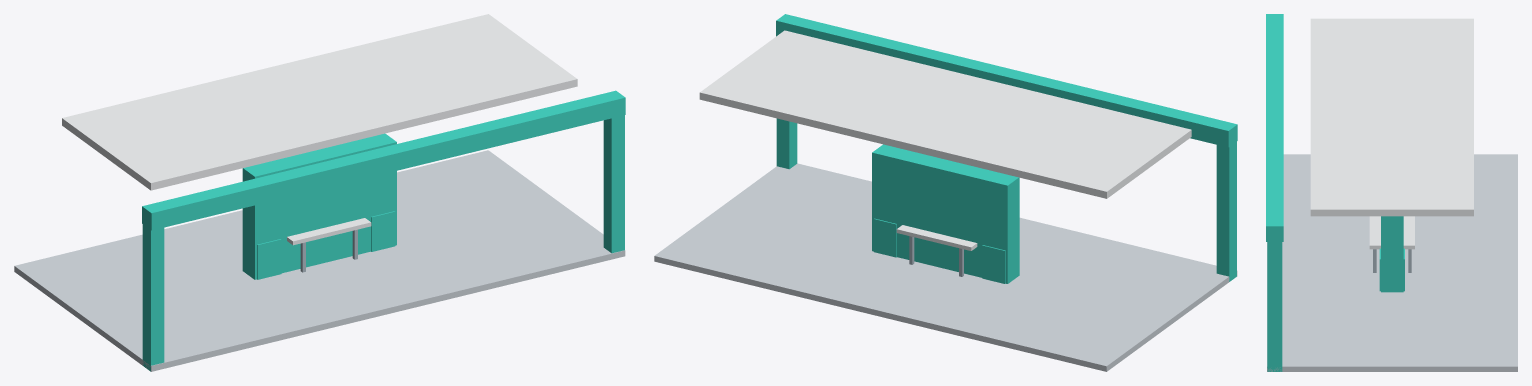
The picture shows the model from 3 angles, left to right: view 1: azimuth 30°, elevation 25°; view 2: azimuth 150°, elevation 25°; view 3: azimuth 270°, elevation 25°; orthographic projection. The views are drawn at different scales.
Parts seen in each view (by area): view 1: Exhibition Booth Concept; view 2: Exhibition Booth Concept; view 3: Exhibition Booth Concept.
Boxes of the visible parts, box(x1,y1,x2,y2) form: Exhibition Booth Concept: box(14, 14, 625, 371); Exhibition Booth Concept: box(654, 14, 1237, 371); Exhibition Booth Concept: box(1266, 14, 1517, 371).
Bounding box in the file's own units: 10 × 3.34 × 5.02.
